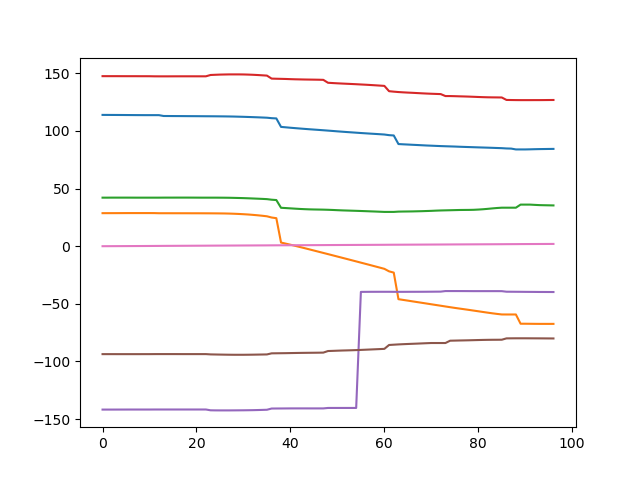Good_Bicep_Curl: (1, 1, 640, 477)
